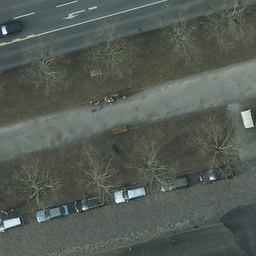car: (36, 202, 69, 223), (198, 166, 233, 185), (74, 193, 107, 213), (114, 186, 148, 204), (159, 176, 190, 192), (0, 213, 22, 234), (0, 21, 23, 38)
